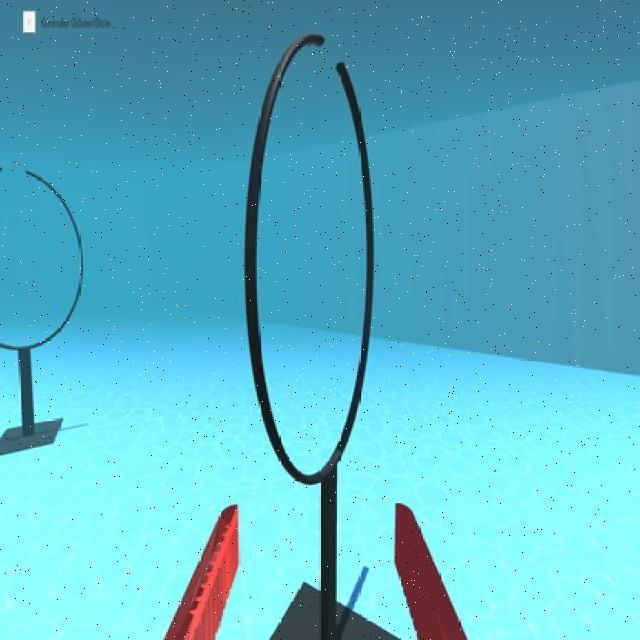Circle: (239, 29, 380, 490)
